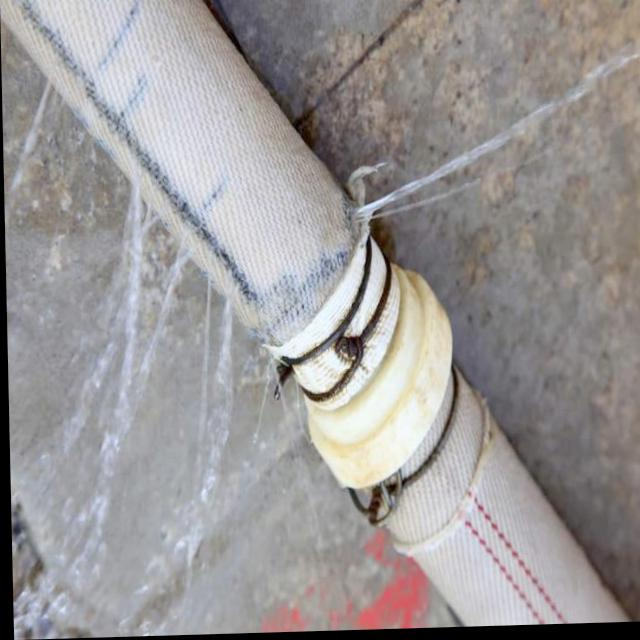leak: (3, 28, 461, 640), (211, 0, 640, 620)
